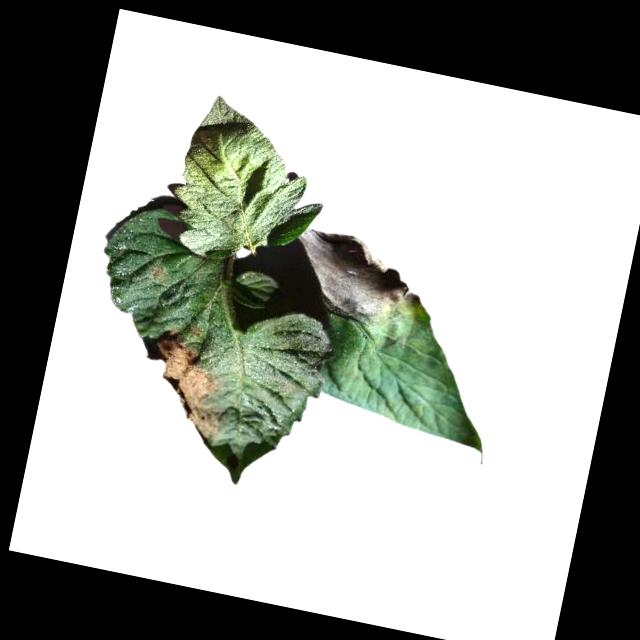Late_blight: (284, 224, 430, 332), (123, 321, 240, 449), (143, 257, 171, 284)
